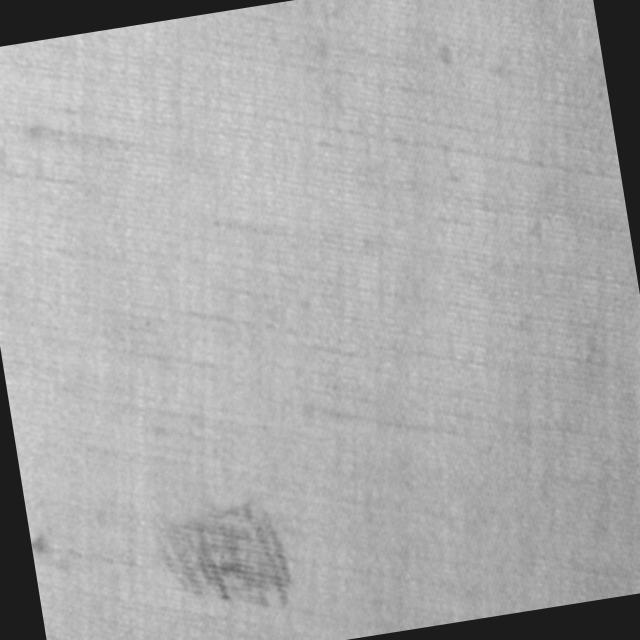oil spot: (144, 485, 302, 633)
